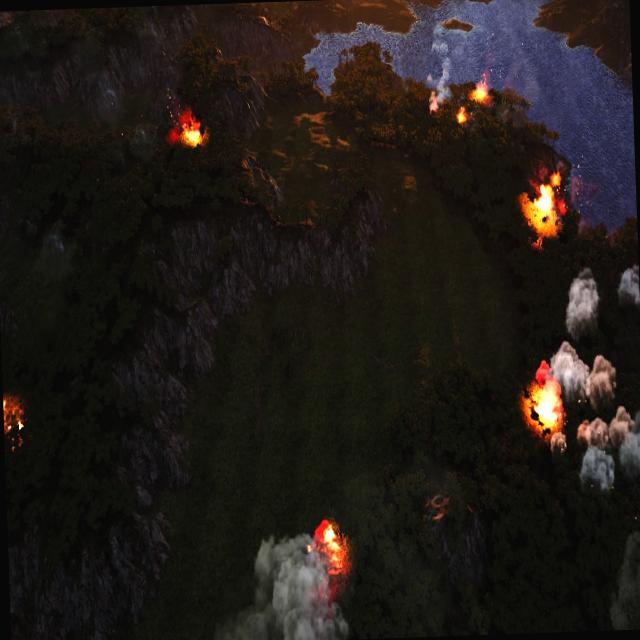fire: (310, 516, 354, 604), (526, 363, 564, 430), (524, 177, 558, 230), (170, 109, 205, 150), (2, 390, 26, 445), (472, 82, 491, 98), (429, 95, 440, 116), (455, 107, 466, 123)
smoke: (534, 260, 640, 497), (186, 528, 356, 640), (426, 22, 454, 106)
